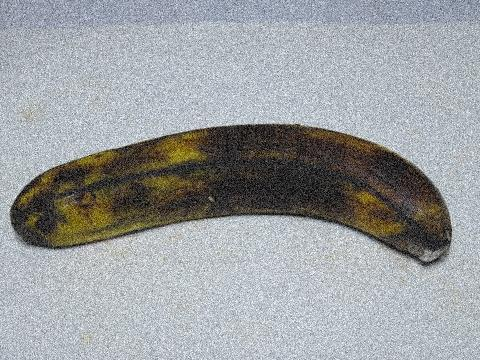overripe: (5, 103, 479, 294)
